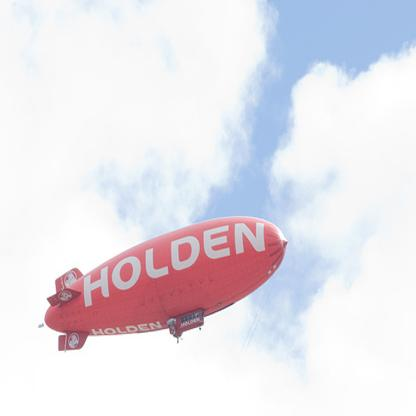Airship: (33, 209, 289, 360)
